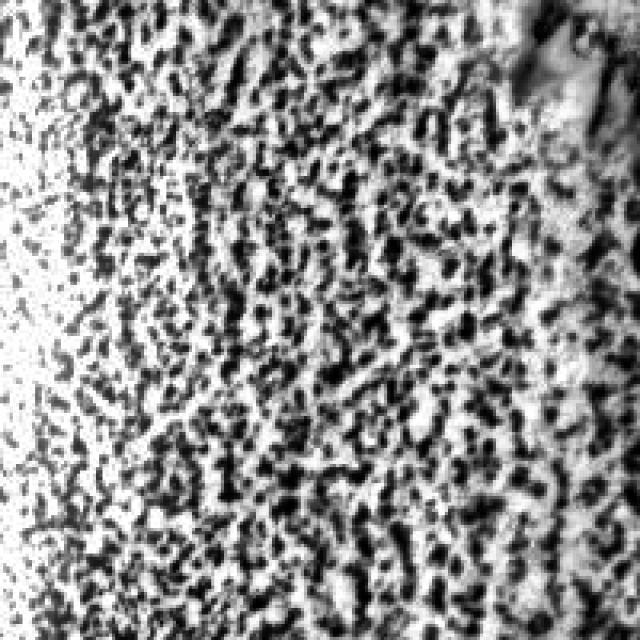Rolled_in_Scale: (9, 26, 620, 608)
Scratches: (505, 0, 636, 150)
